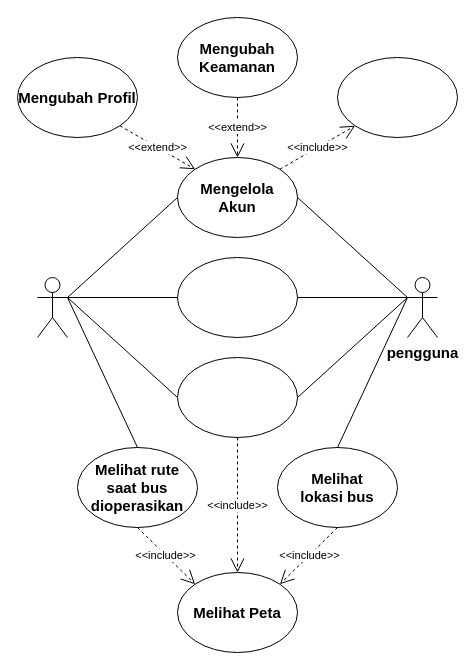
This 476x670 diagram has some shape labels left out. The shapes that lost their labels are listed below. From the top down, each one's box as (x1, y1, x2, y2) in pixels, then its label:
(336, 56, 458, 138): Melihat Akun
(36, 276, 68, 338): driver
(176, 256, 298, 338): Melihat Status Bus
(176, 356, 298, 438): Melihat lokasi halte
